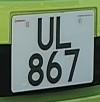6: (43, 50, 65, 87)
7: (62, 46, 82, 85)
8: (25, 51, 48, 89)
L: (50, 14, 75, 48)
U: (33, 15, 58, 50)
